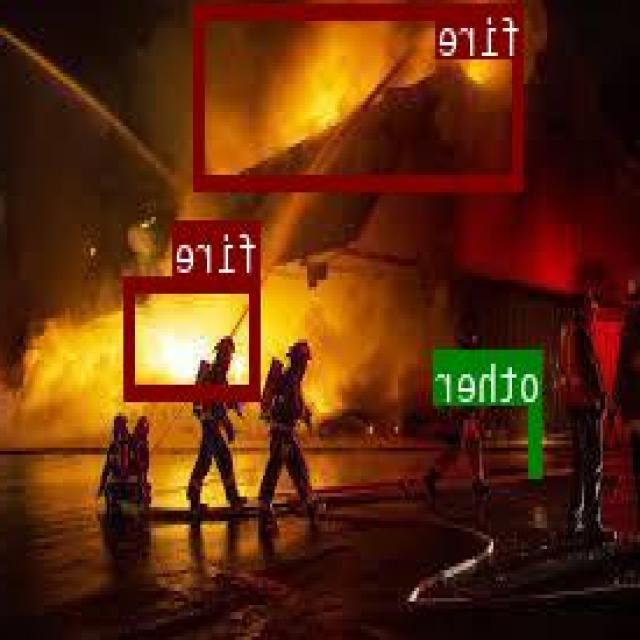fire: (196, 1, 525, 188), (127, 275, 261, 397)
other: (532, 406, 544, 474)
